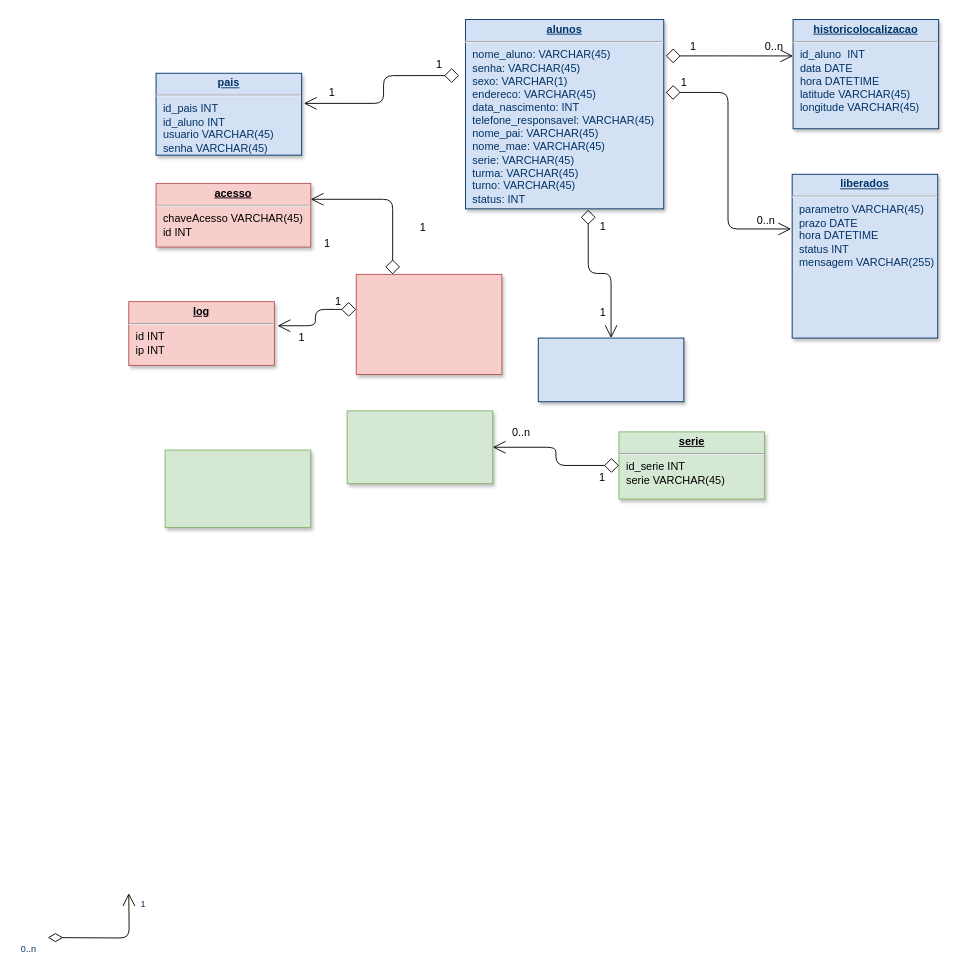
Some shapes in this 961 by 970 pixel diagram are drawn without their labels. The centre of each missing label's shape, as x and y in pixels:
admin id_admin INT usuario VARCHAR(45) senha VARCHAR(45) nivel INT: (x=429, y=325)
codigo_aluno codigo INT id_aluno INT: (x=611, y=371)
turma serie VARCHAR(45) turma VARCHAR(45): (x=420, y=448)
turno turno VARCHAR(45) status INT: (x=238, y=490)
